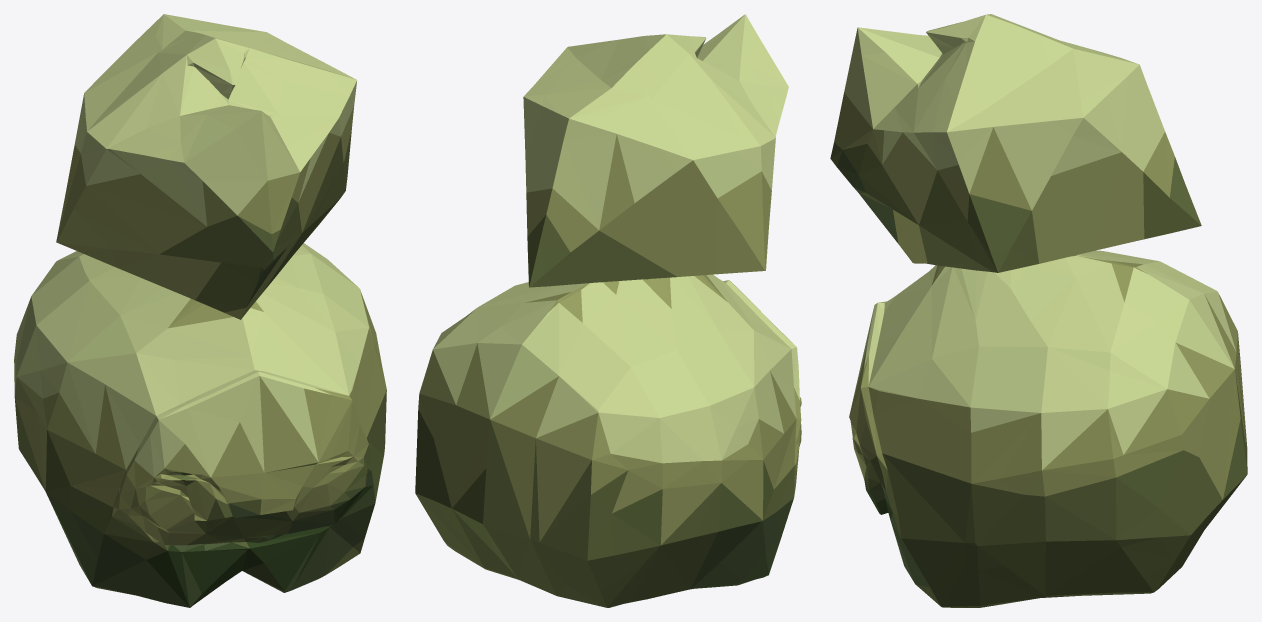
The model's file is tripo-creature-21.glb.
The picture shows the model from 3 angles, left to right: view 1: azimuth 30°, elevation 25°; view 2: azimuth 150°, elevation 25°; view 3: azimuth 270°, elevation 25°; orthographic projection. The views are drawn at different scales.
Visible parts, largest first — view 1: Body; view 2: Body; view 3: Body.
Part boxes in pixels (x1,y1,x2,y2): Body: [14, 14, 386, 607]; Body: [415, 14, 801, 607]; Body: [830, 14, 1247, 607].
Bounding box in the file's own units: 0.5055 × 0.8 × 0.561.
